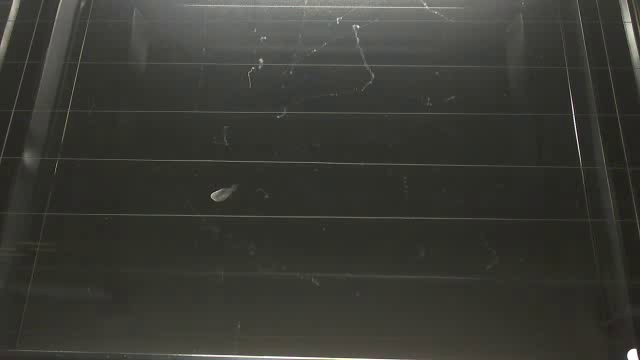Alfa: (208, 184, 240, 206)
